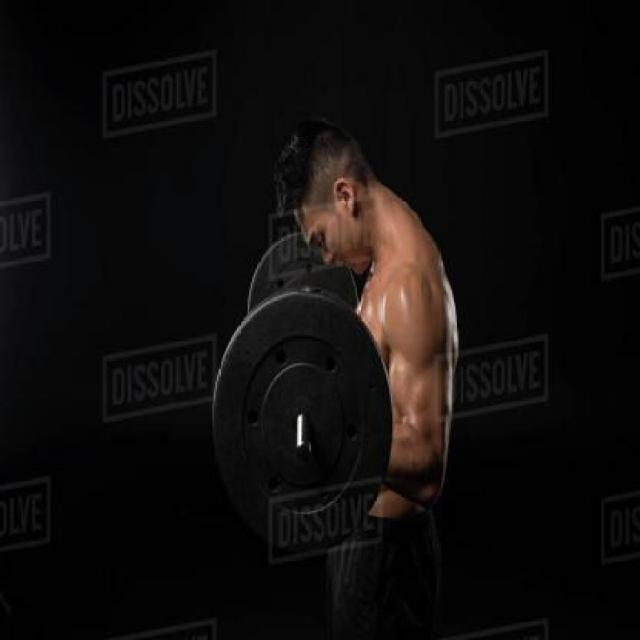Barbell: (287, 442, 318, 476)
